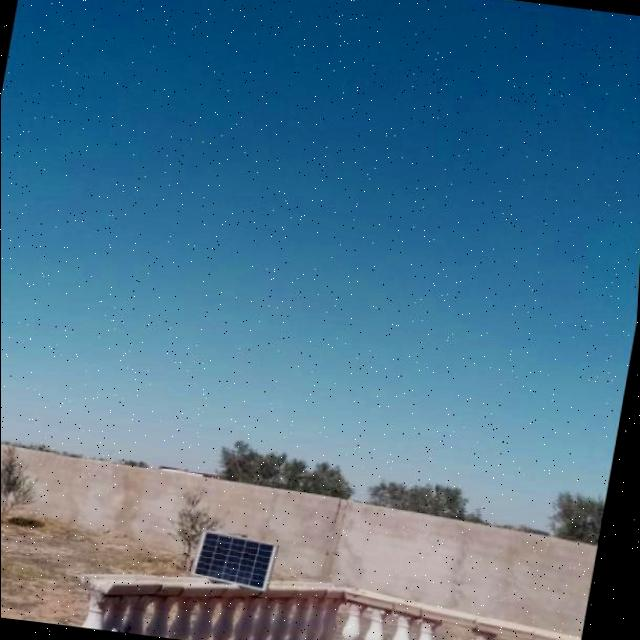Normal Solar Panel: (196, 530, 285, 592)
